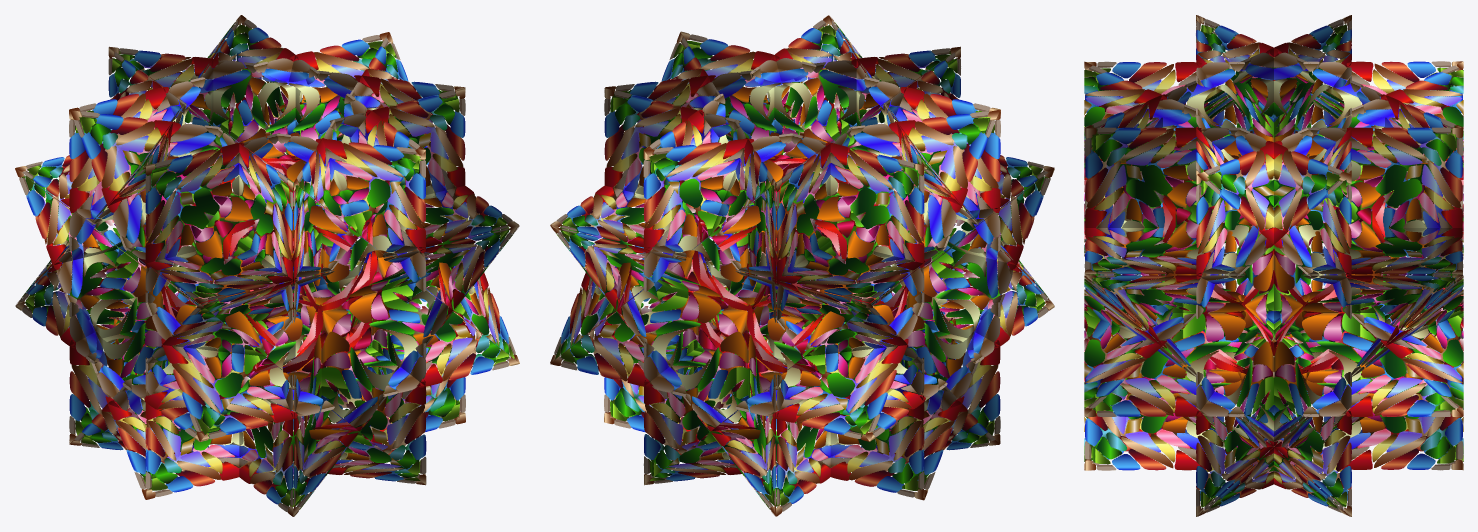
The model's file is 3UniformGreatRhombicuboctahedron.gltf.
3 views of the same model, side by side, from view 1: azimuth 30°, elevation 25°; view 2: azimuth 150°, elevation 25°; view 3: azimuth 270°, elevation 25° (orthographic). The views are drawn at different scales.
Parts seen in each view (by area): view 1: 3UniformGreatRhombicuboctahedron; view 2: 3UniformGreatRhombicuboctahedron; view 3: 3UniformGreatRhombicuboctahedron.
Boxes of the visible parts, x1=… form: 3UniformGreatRhombicuboctahedron: x1=15, y1=15, x2=519, y2=516; 3UniformGreatRhombicuboctahedron: x1=550, y1=15, x2=1054, y2=516; 3UniformGreatRhombicuboctahedron: x1=1084, y1=15, x2=1463, y2=516.
Bounding box in the file's own units: 1 × 1 × 1.
Materials: 1 (1 with a texture image).
